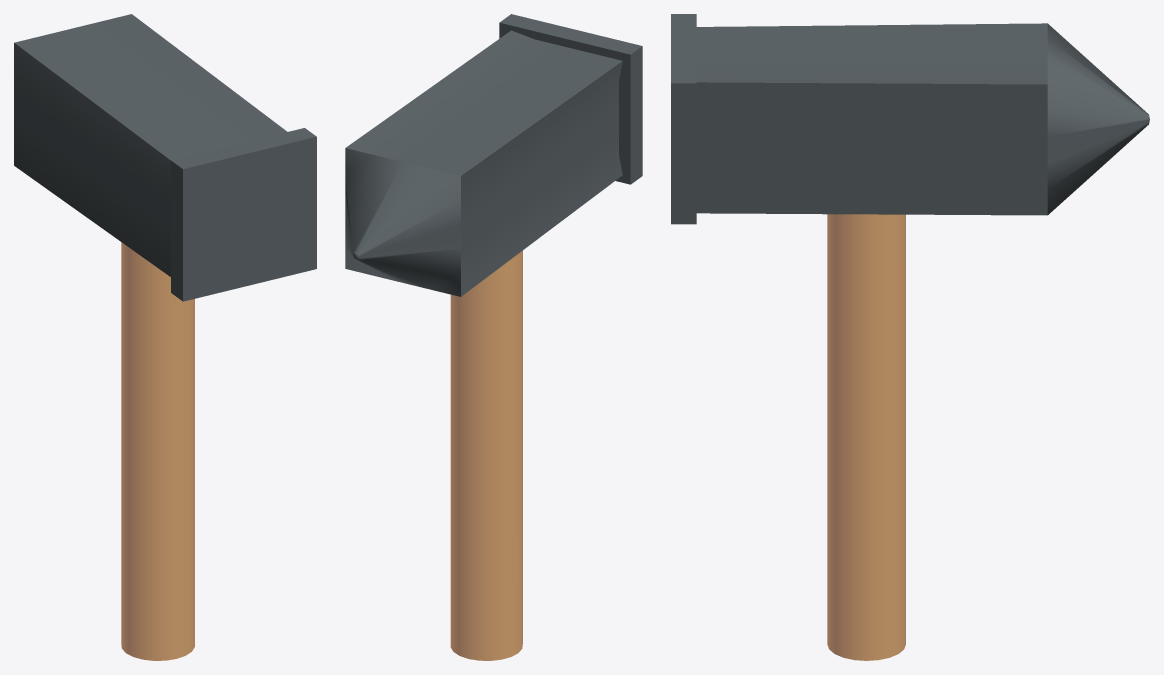
Rendered from truehammerbeta.fbx.
3 views of the same model, side by side, from view 1: azimuth 30°, elevation 25°; view 2: azimuth 150°, elevation 25°; view 3: azimuth 270°, elevation 25° (orthographic). The views are drawn at different scales.
Parts seen in each view (by area): view 1: pCylinder1; view 2: pCylinder1; view 3: pCylinder1.
Boxes of the visible parts, x1,y1,x2,y2 form: pCylinder1: (14,14,316,660); pCylinder1: (345,14,642,660); pCylinder1: (671,14,1149,660).
Size of the model in its own units: 8.48 by 33.89 by 24.69.
